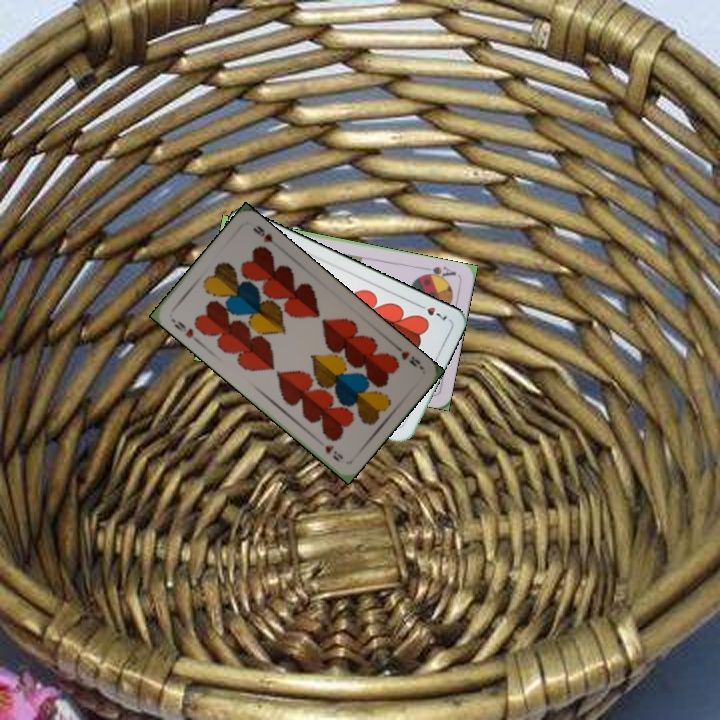H7: (413, 300, 450, 323)
H9: (391, 341, 423, 369), (170, 317, 200, 345)
SA: (418, 262, 459, 283)
